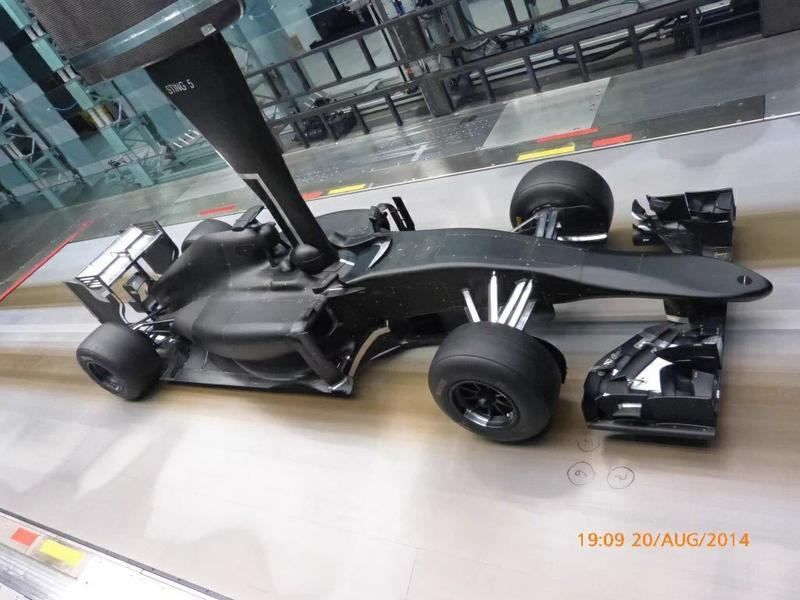f1: (55, 154, 755, 451)
